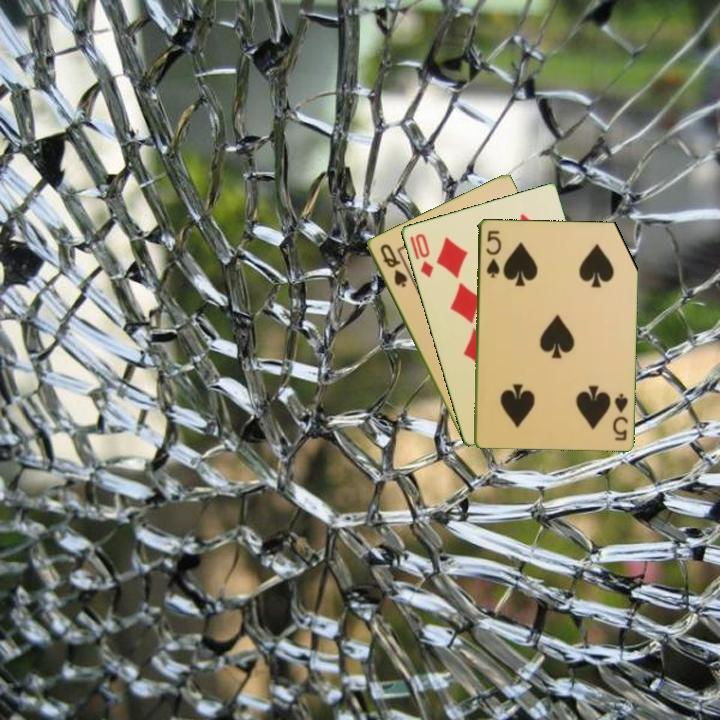10d: (411, 230, 436, 280)
5s: (609, 389, 631, 443), (482, 227, 503, 280)
Qs: (376, 240, 410, 290)
